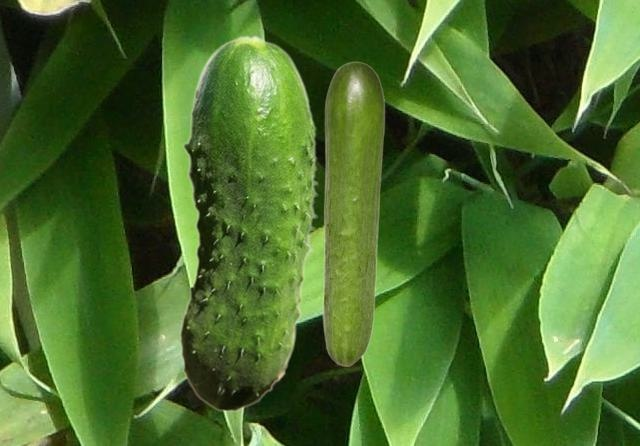cucumber: (179, 34, 318, 411), (322, 61, 384, 366)
